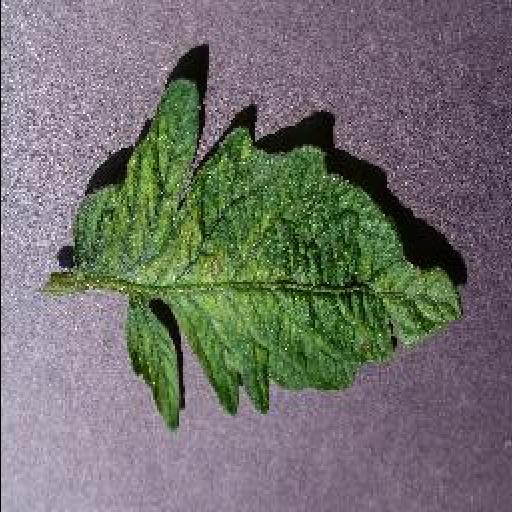Mosaic Virus: (68, 76, 468, 434)
